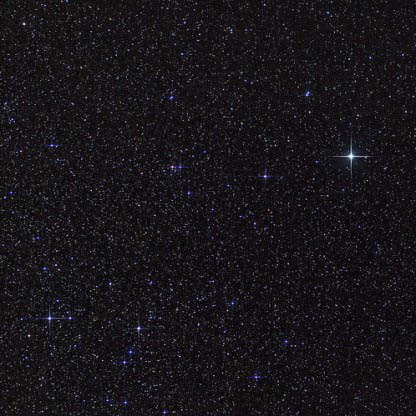Lyra: (329, 126, 373, 183), (122, 311, 150, 345), (294, 83, 322, 114), (39, 298, 64, 331), (155, 158, 188, 181), (251, 164, 278, 190)
